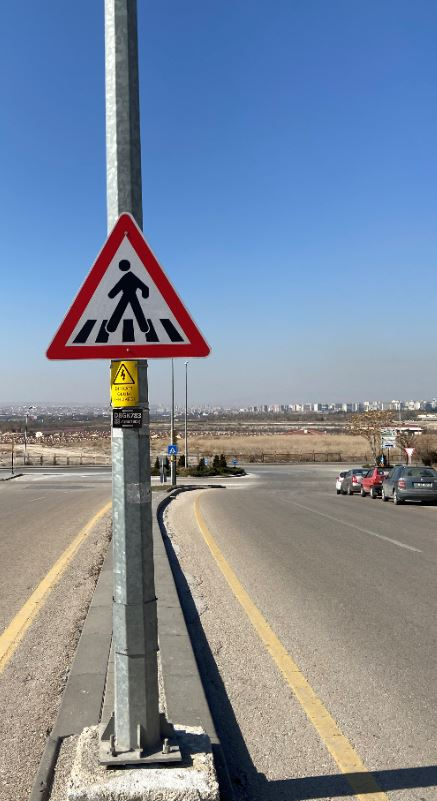Yaya Gecidi: (43, 210, 212, 362)
